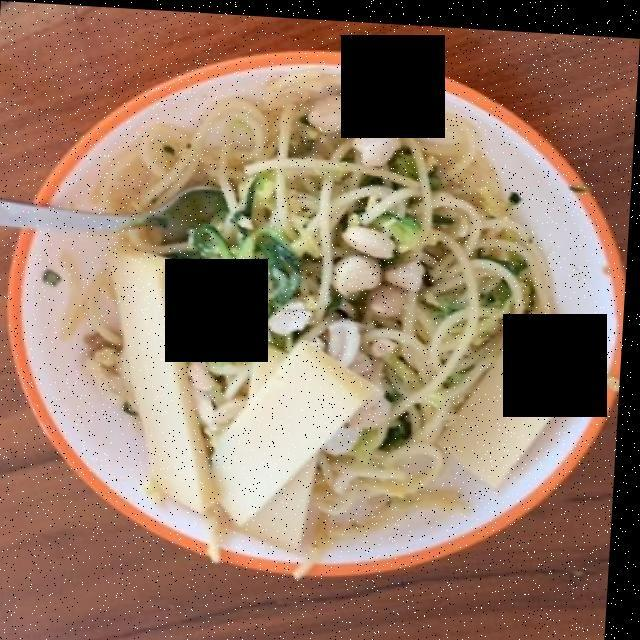cashew-nut: (192, 87, 415, 426)
gruyere: (114, 258, 592, 543)
pasta: (92, 71, 536, 516)
sauce: (186, 203, 427, 311)
